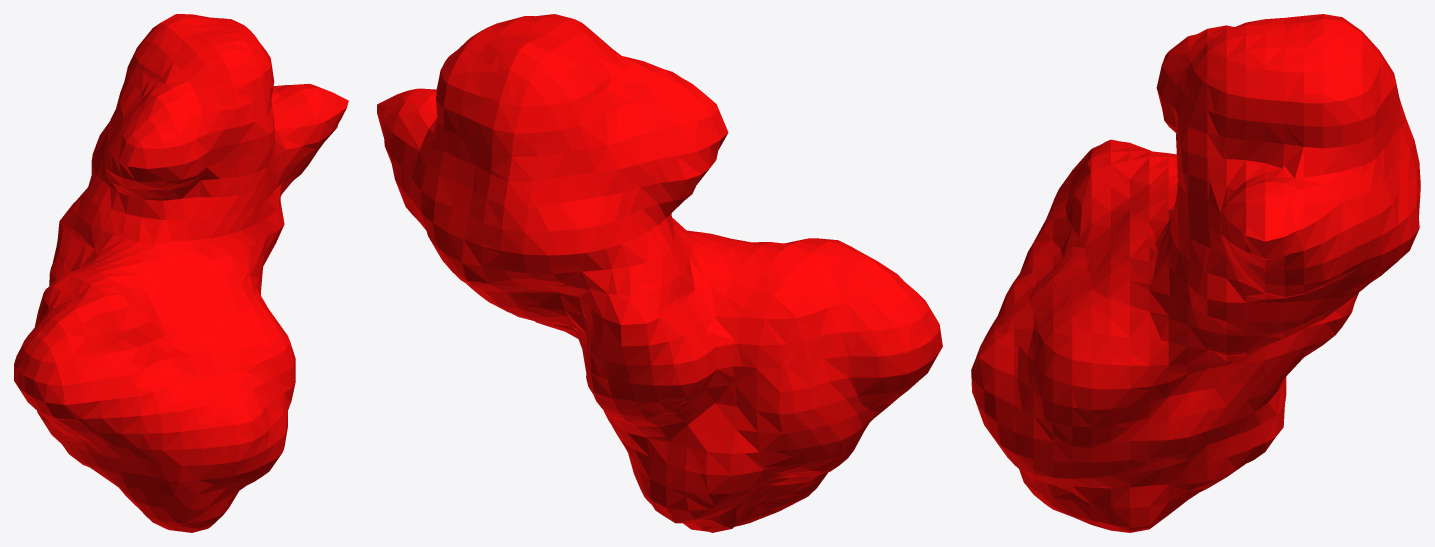
Rendered from yieP_coarse.dae.
3 views of the same model, side by side, from view 1: azimuth 30°, elevation 25°; view 2: azimuth 150°, elevation 25°; view 3: azimuth 270°, elevation 25° (orthographic). The views are drawn at different scales.
Parts seen in each view (by area): view 1: yieP; view 2: yieP; view 3: yieP.
Part boxes in pixels (x1,y1,x2,y2): yieP: [14, 14, 348, 532]; yieP: [377, 14, 942, 532]; yieP: [971, 14, 1420, 532].
Bounding box in the file's own units: 63.66 × 67.45 × 49.58.
